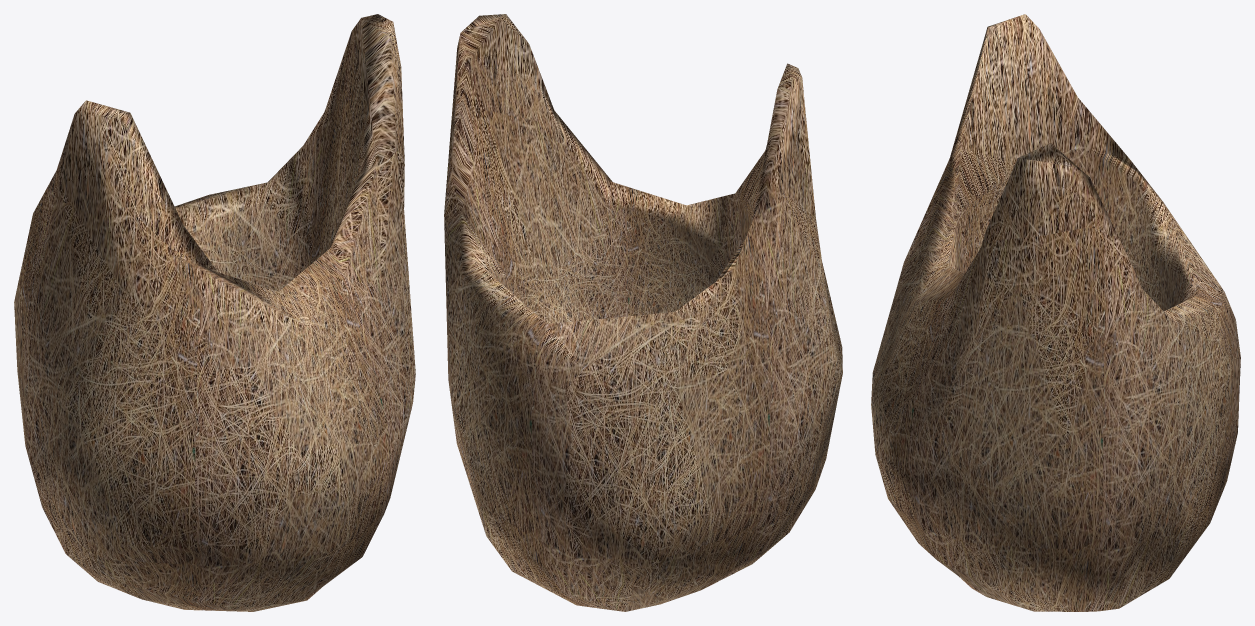
Rendered from nest.fbx.
3 renders of one model, left to right at view 1: azimuth 30°, elevation 25°; view 2: azimuth 150°, elevation 25°; view 3: azimuth 270°, elevation 25°, orthographic. The views are drawn at different scales.
Parts seen in each view (by area): view 1: PM3D_Sphere3D_1; view 2: PM3D_Sphere3D_1; view 3: PM3D_Sphere3D_1.
Part boxes in pixels (bbox=[...]): PM3D_Sphere3D_1: bbox=[14, 14, 415, 611]; PM3D_Sphere3D_1: bbox=[444, 14, 842, 611]; PM3D_Sphere3D_1: bbox=[871, 14, 1240, 611].
Size of the model in its own units: 4.56 by 6.79 by 4.43.
